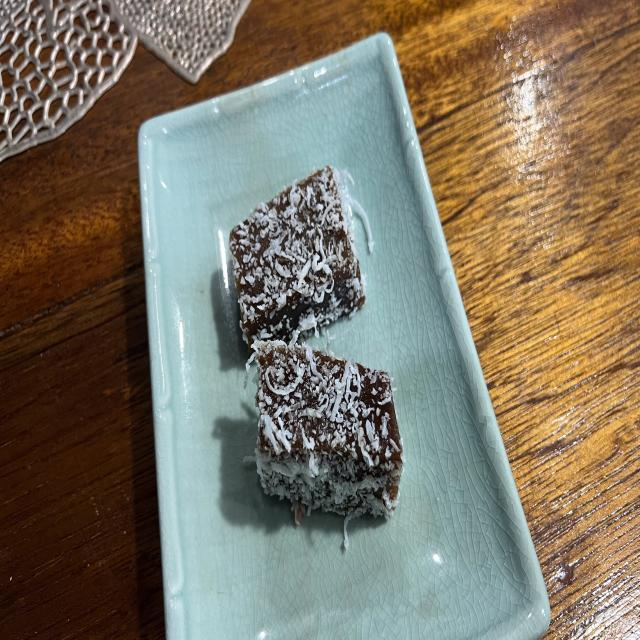kaswi: (254, 340, 404, 547), (230, 167, 370, 347)
